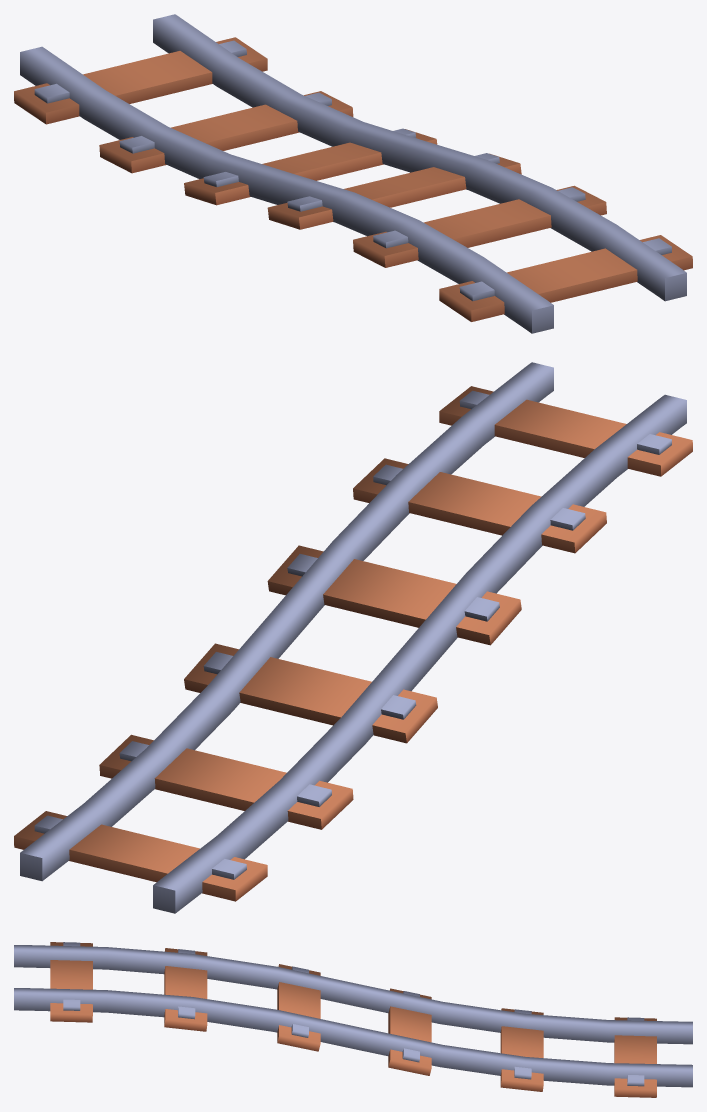
The model's file is railroad-straight-hill-complete-half.glb.
The picture shows the model from 3 angles, top to bottom: view 1: azimuth 30°, elevation 25°; view 2: azimuth 150°, elevation 25°; view 3: azimuth 270°, elevation 25°; orthographic projection. The views are drawn at different scales.
Parts seen in each view (by area): view 1: railroad-straight-hill-complete-half; view 2: railroad-straight-hill-complete-half; view 3: railroad-straight-hill-complete-half.
Boxes of the visible parts, x1,y1,x2,y2 form: railroad-straight-hill-complete-half: (14, 14, 692, 333); railroad-straight-hill-complete-half: (14, 362, 692, 913); railroad-straight-hill-complete-half: (14, 942, 692, 1097).
Bounding box in the file's own units: 1 × 0.6 × 4.
